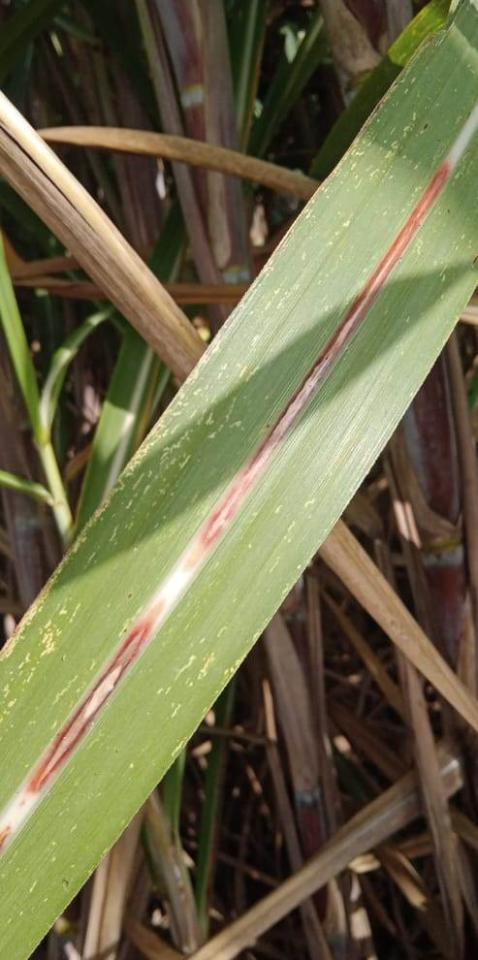RedRot: (185, 157, 454, 571), (22, 598, 167, 796), (0, 822, 17, 856)
